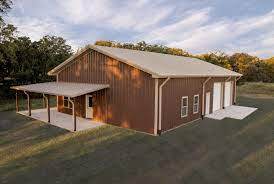Tin-shade House: (19, 40, 239, 130)
